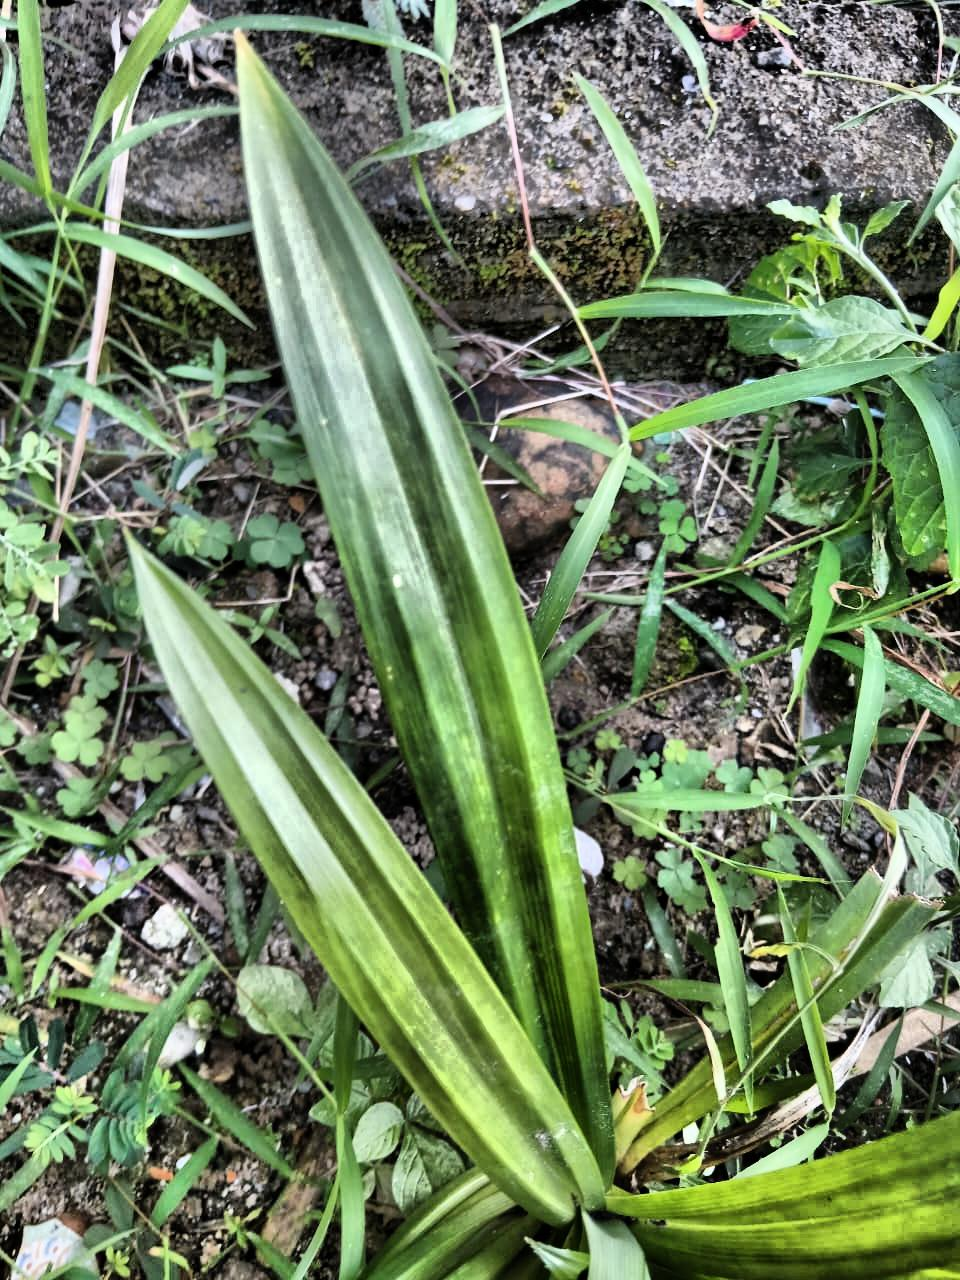daun pandan: (129, 34, 959, 1279)
